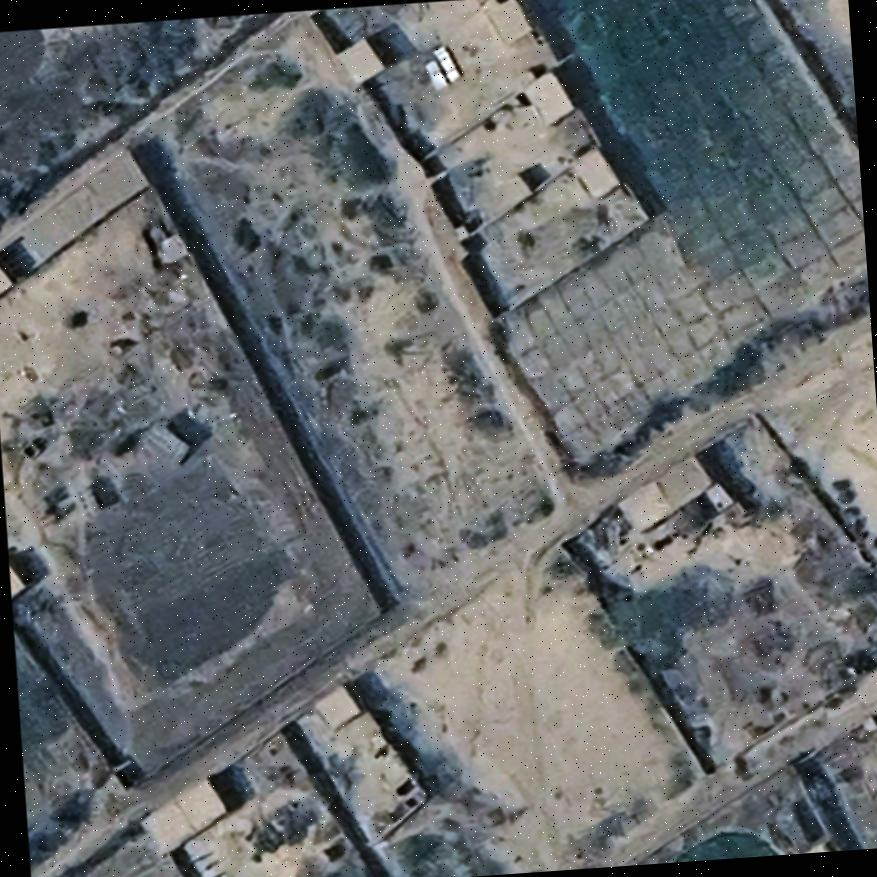Solarpanel: (418, 37, 463, 92)
